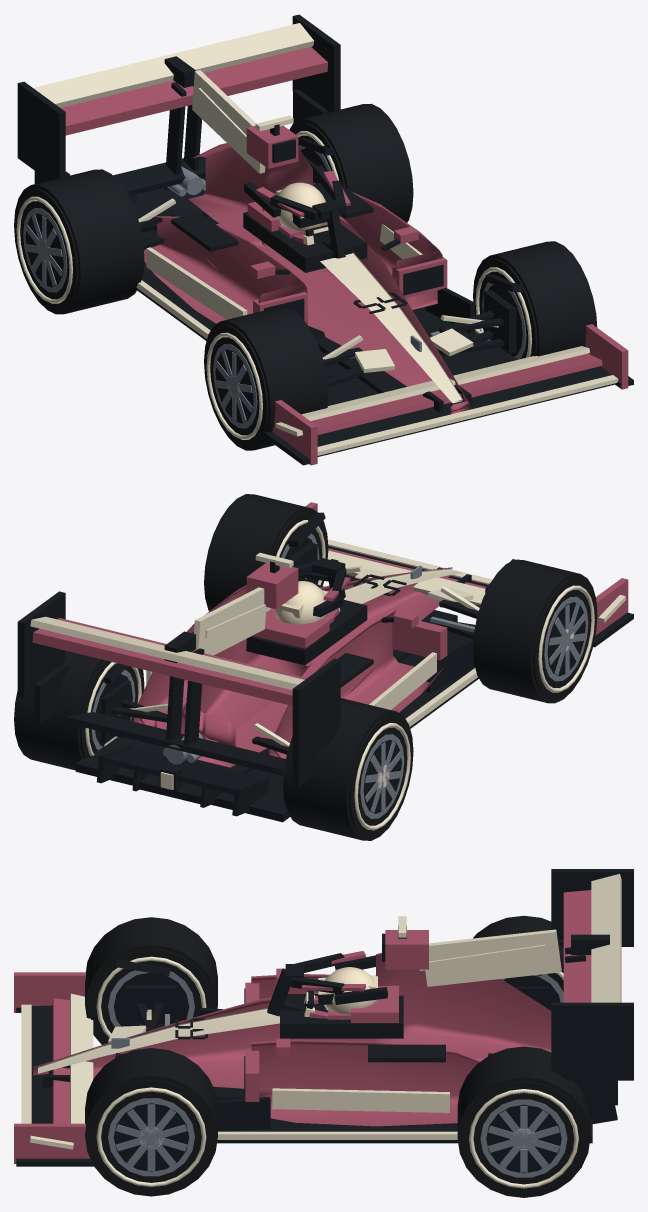
The model's file is stratos-59.glb.
3 renders of one model, top to bottom at view 1: azimuth 30°, elevation 25°; view 2: azimuth 150°, elevation 25°; view 3: azimuth 270°, elevation 25°, orthographic.
Parts seen in each view (by area): view 1: formula-59, wheel (×4); view 2: formula-59, wheel (×4); view 3: formula-59, wheel (×4).
Boxes of the visible parts, box(x1,y1,x2,y2) form: formula-59: box(17, 14, 633, 465); wheel (×4): box(14, 103, 597, 450); formula-59: box(17, 502, 633, 822); wheel (×4): box(14, 494, 597, 840); formula-59: box(14, 869, 633, 1166); wheel (×4): box(85, 915, 590, 1197).
Size of the model in its own units: 3.41 by 1.85 by 5.41.
